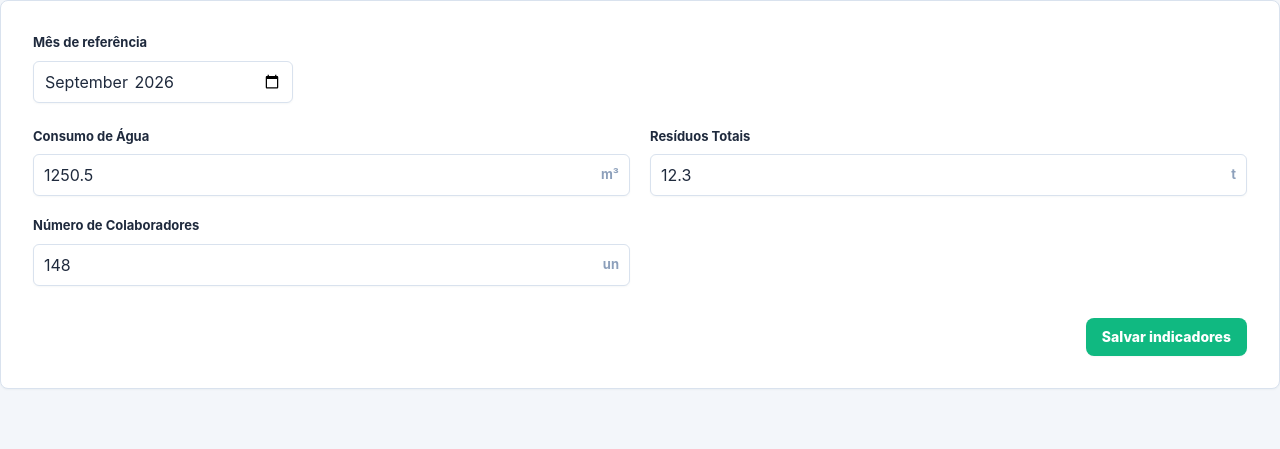
Test: EsgIndicatorsForm › displays API error on failure
Replace the text in the number field labelled "Consumo de Água" with "100" at (318, 175), box [44,163,591,187]
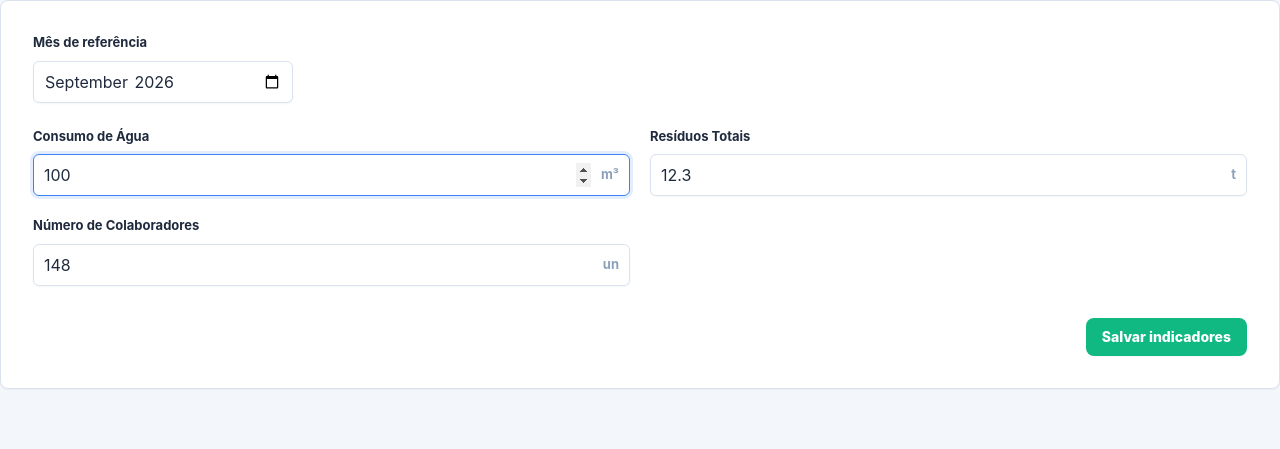
Click the button "Salvar indicadores" at (1166, 336), box [1086,318,1247,356]
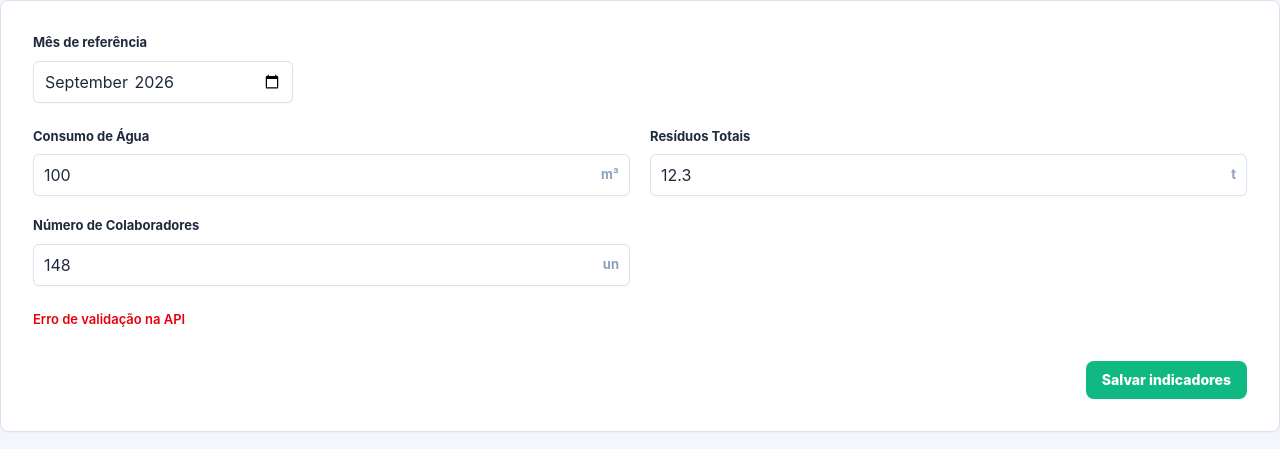
Check: the text "Erro de validação na API" is shown, box [33,310,185,326]
